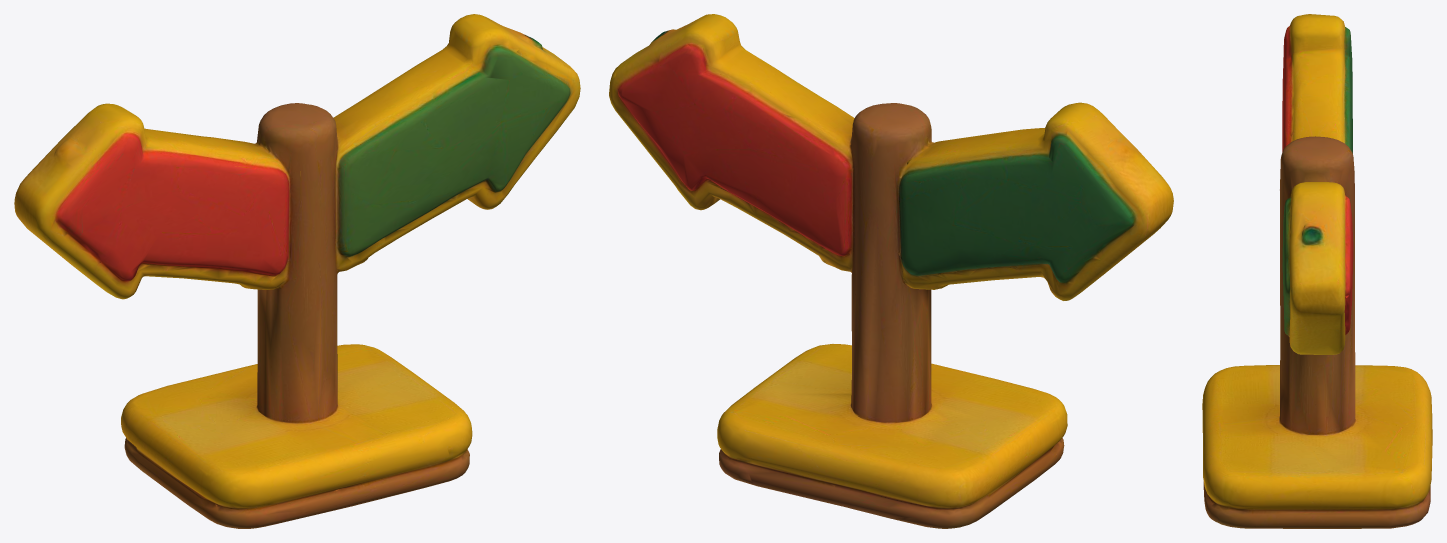
File: icon-choice.glb
3 views of the same model, side by side, from view 1: azimuth 30°, elevation 25°; view 2: azimuth 150°, elevation 25°; view 3: azimuth 270°, elevation 25° (orthographic). The views are drawn at different scales.
Parts seen in each view (by area): view 1: Mesh_0; view 2: Mesh_0; view 3: Mesh_0.
Boxes of the visible parts, bbox=[...] form: Mesh_0: bbox=[14, 14, 580, 528]; Mesh_0: bbox=[609, 14, 1173, 528]; Mesh_0: bbox=[1202, 14, 1432, 528].
Size of the model in its own units: 2 by 1.41 by 0.7851.
1 material, 1 textured.
